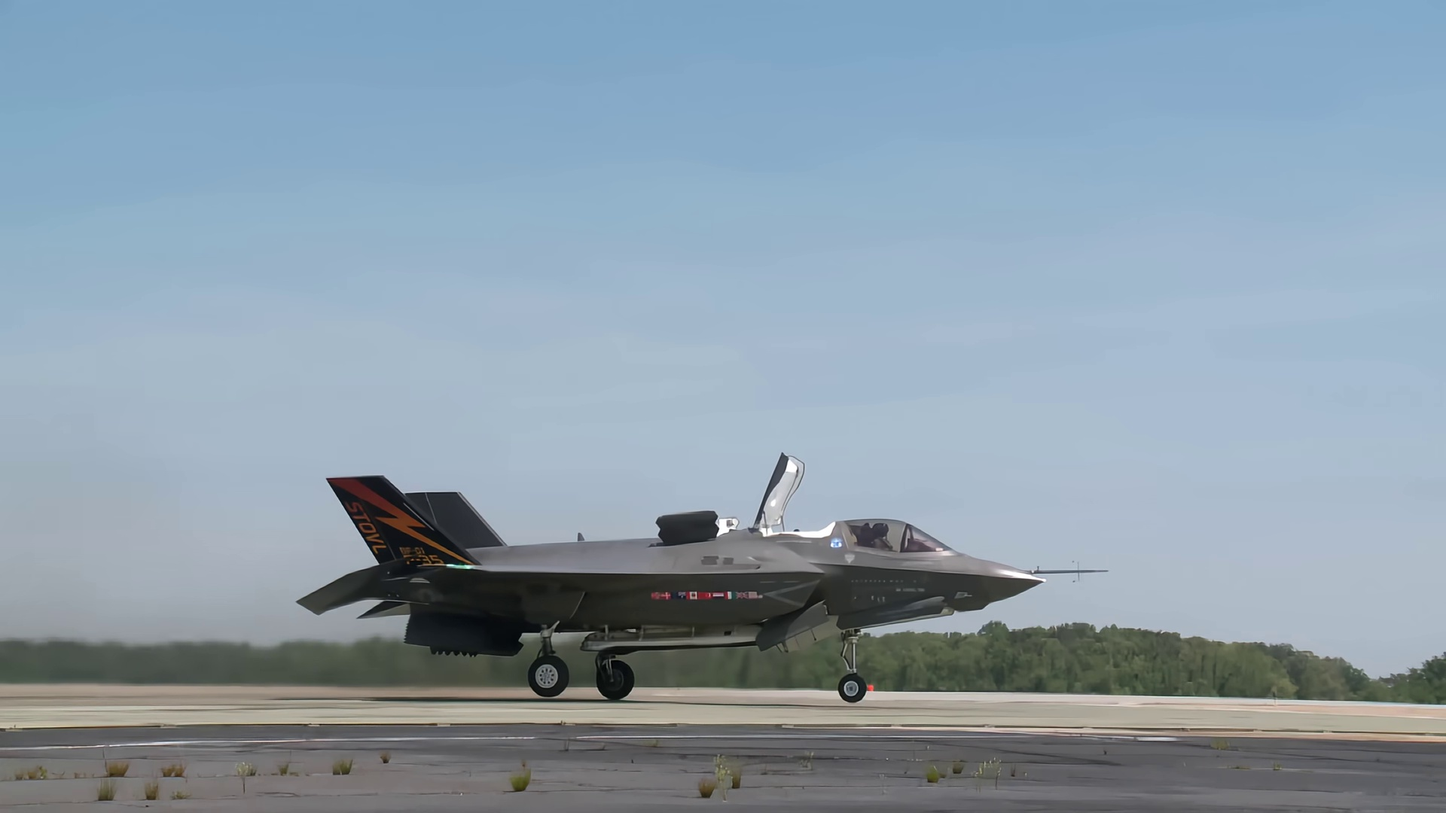F35: (292, 448, 1113, 706)
